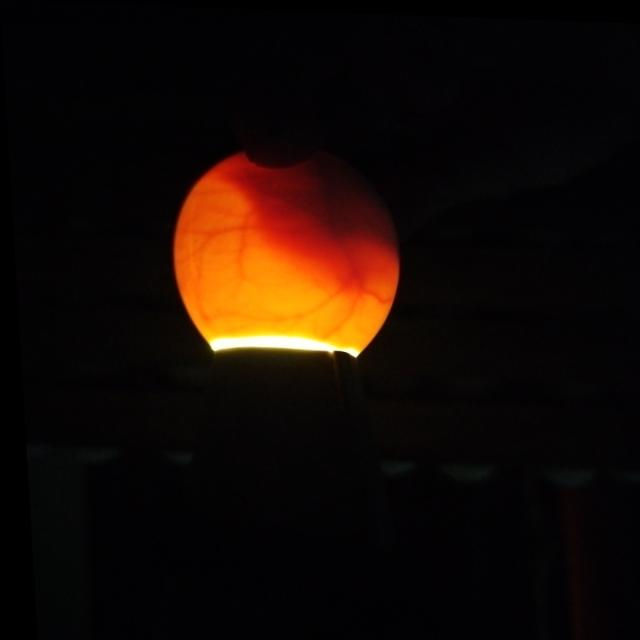Embriao: (276, 152, 401, 253)
